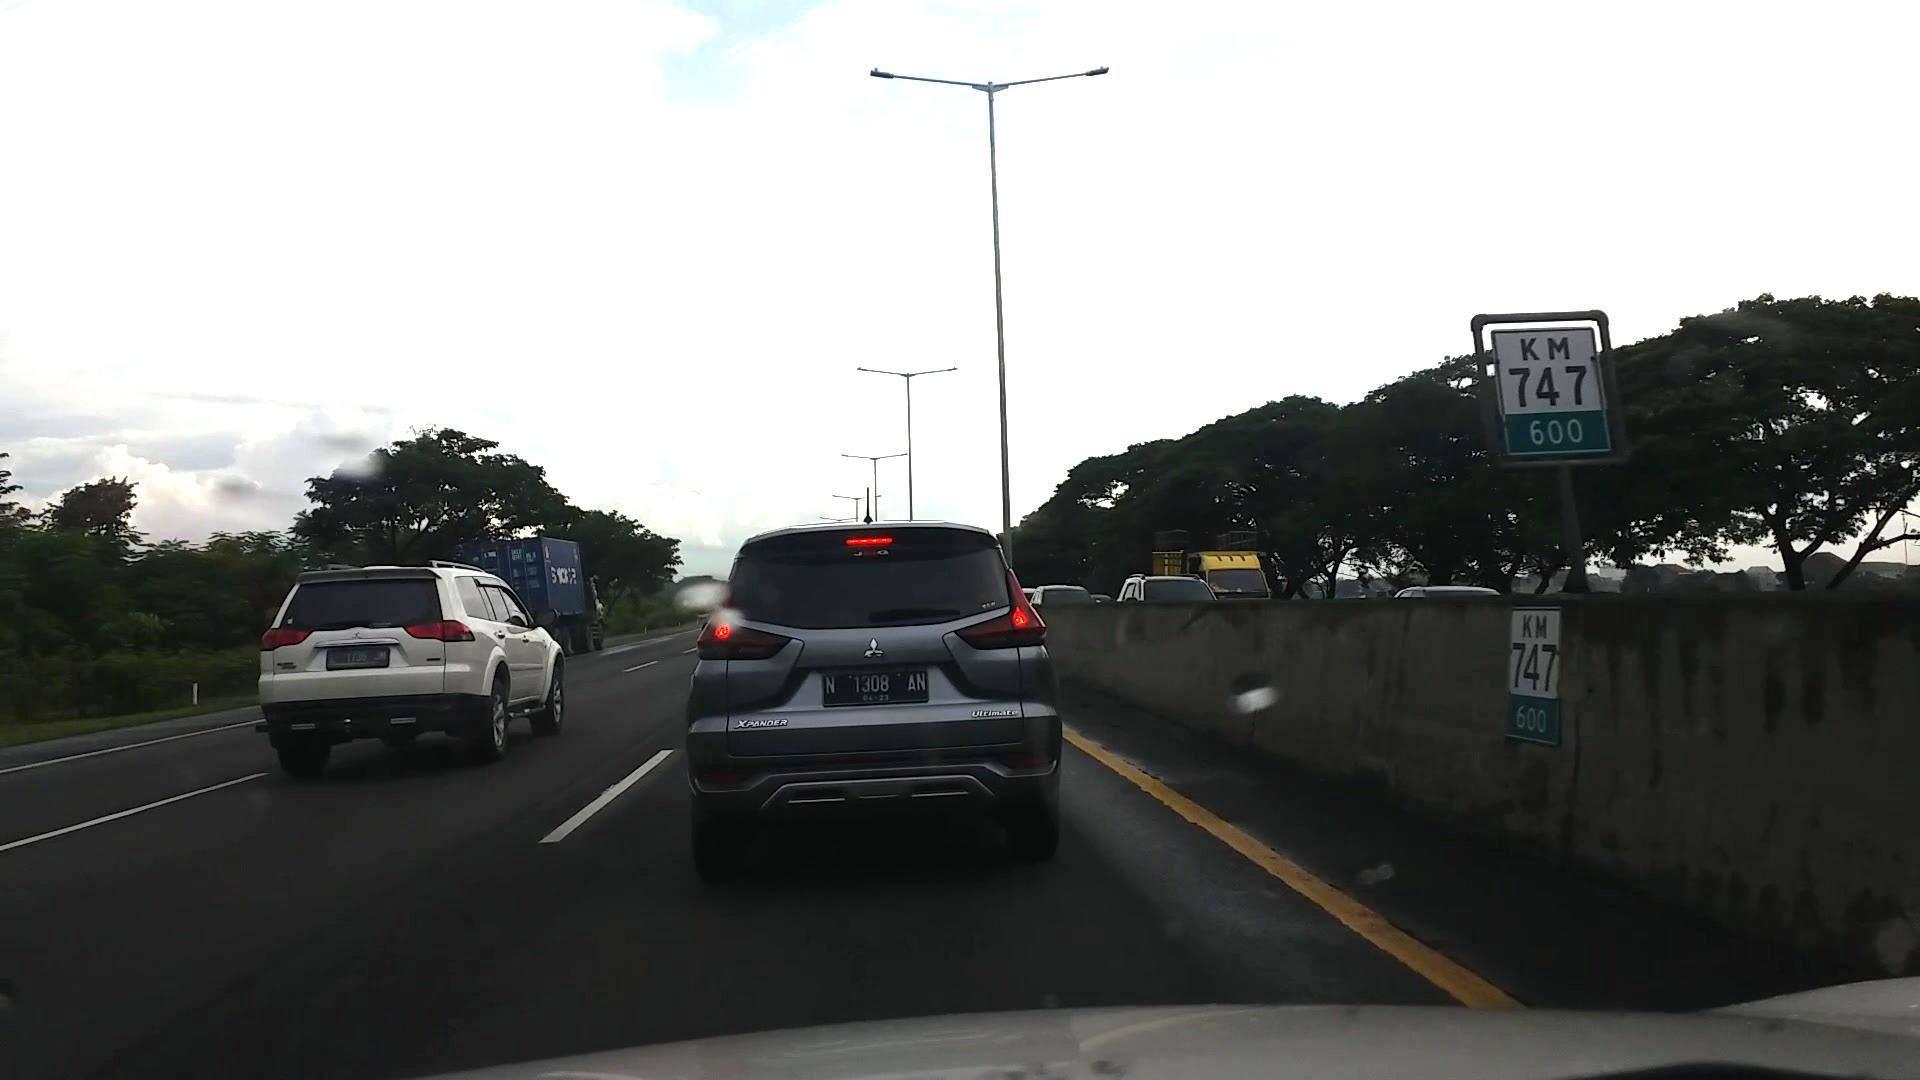plate_positive: (822, 670, 928, 705)
